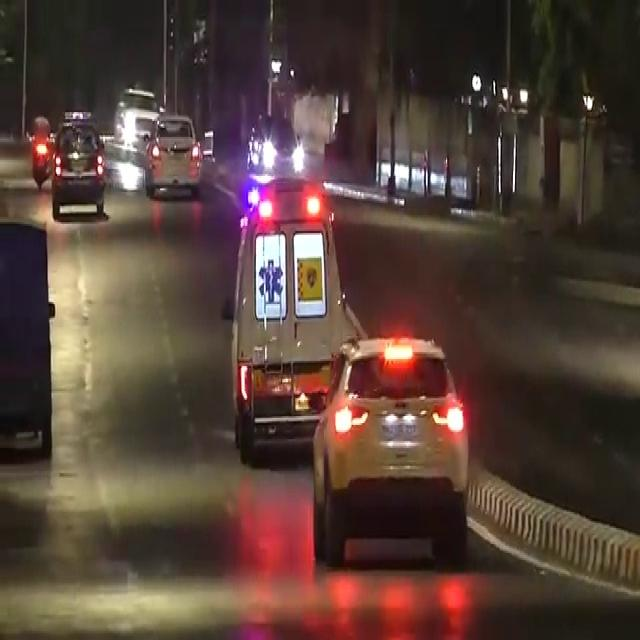ambulance: (225, 184, 343, 397)
